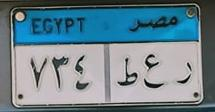3: (50, 55, 70, 88)
4: (72, 52, 94, 92)
7: (27, 55, 48, 88)
Taa: (118, 55, 138, 92)
ain: (140, 52, 164, 88)
raa: (174, 60, 192, 87)
